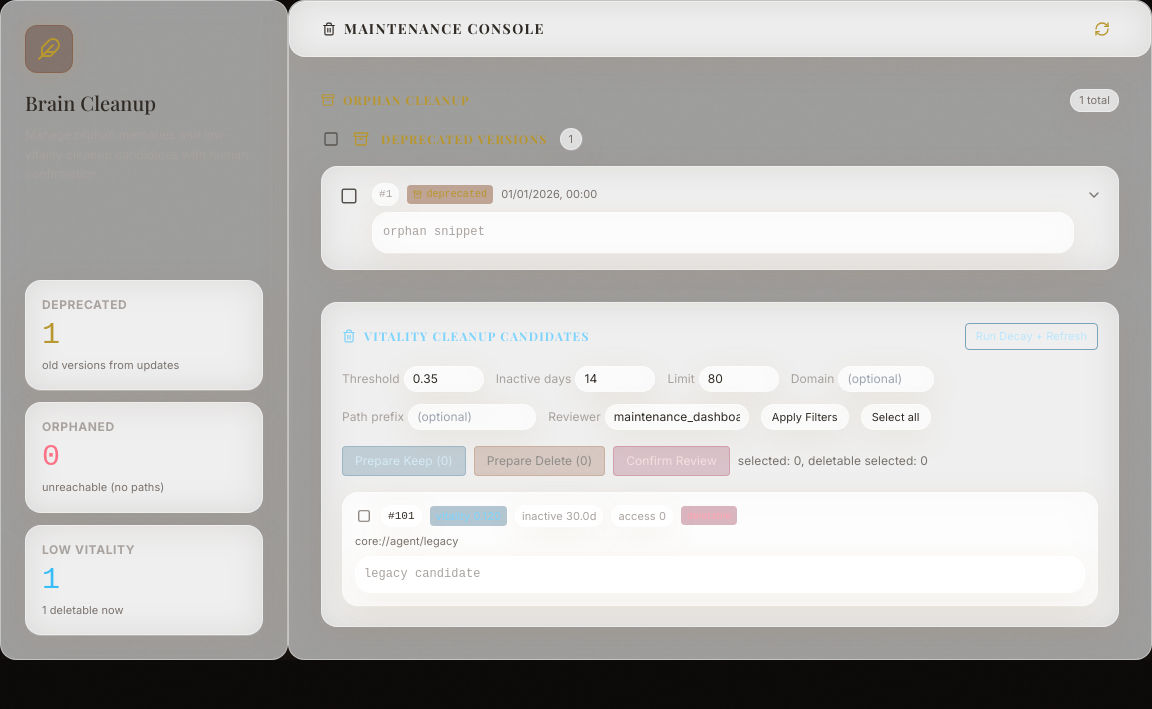
Test: MaintenancePage › keeps prepared review for retry when confirm returns structured confirmation_phrase_mismatch detail
Expected: the text "legacy candidate" is shown, [355,556,1085,593]
Click the button "Select all": (896, 416) [861,404,930,430]
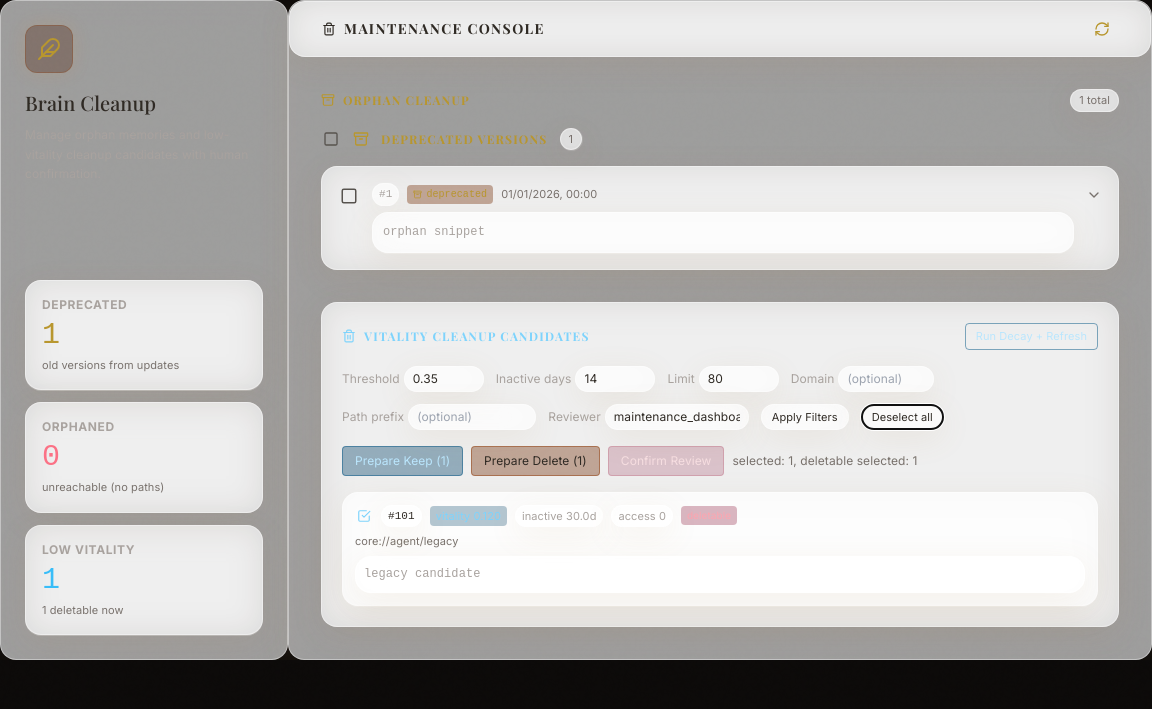
Click the button "Prepare Delete (1)": (535, 460) [471,446,600,476]
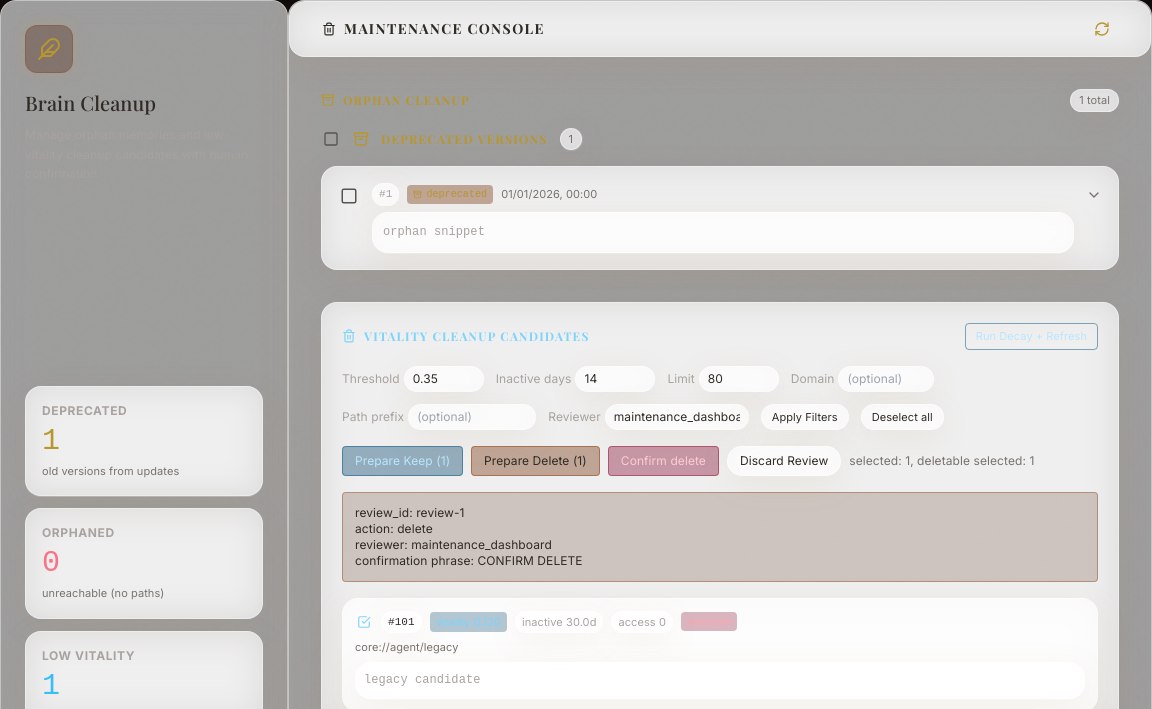
Result: the text "review_id: review-1" is shown at [355,504,464,520]
Click the button "Confirm delete": (663, 460) [608,446,719,476]
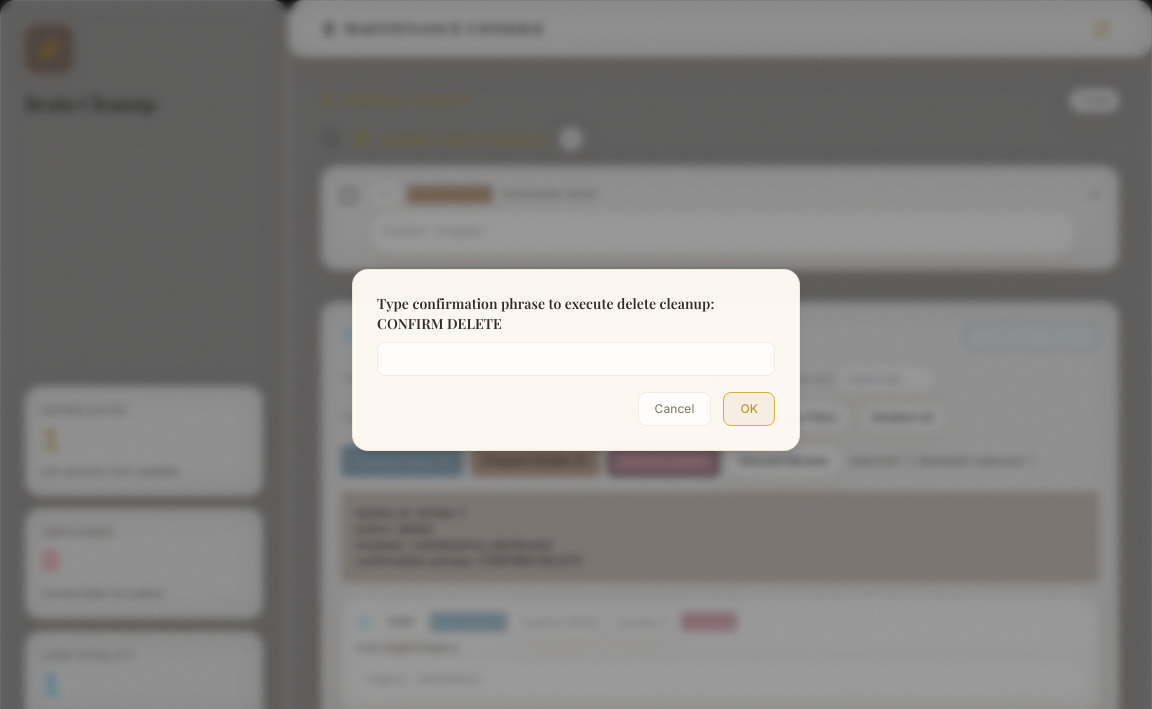
Note: Interact with the confirmation dialog
In the field: (576, 359) [377,342,775,376], type "CONFIRM DELETE"
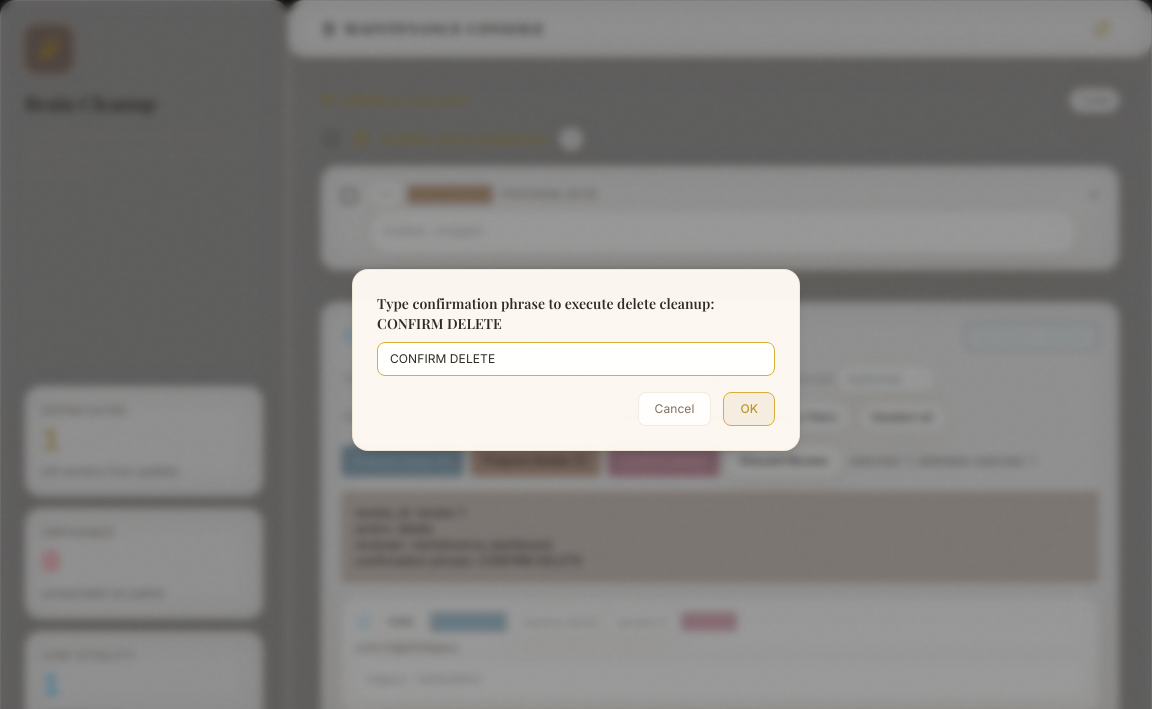
Click the button "OK": (749, 409) [723,392,775,426]
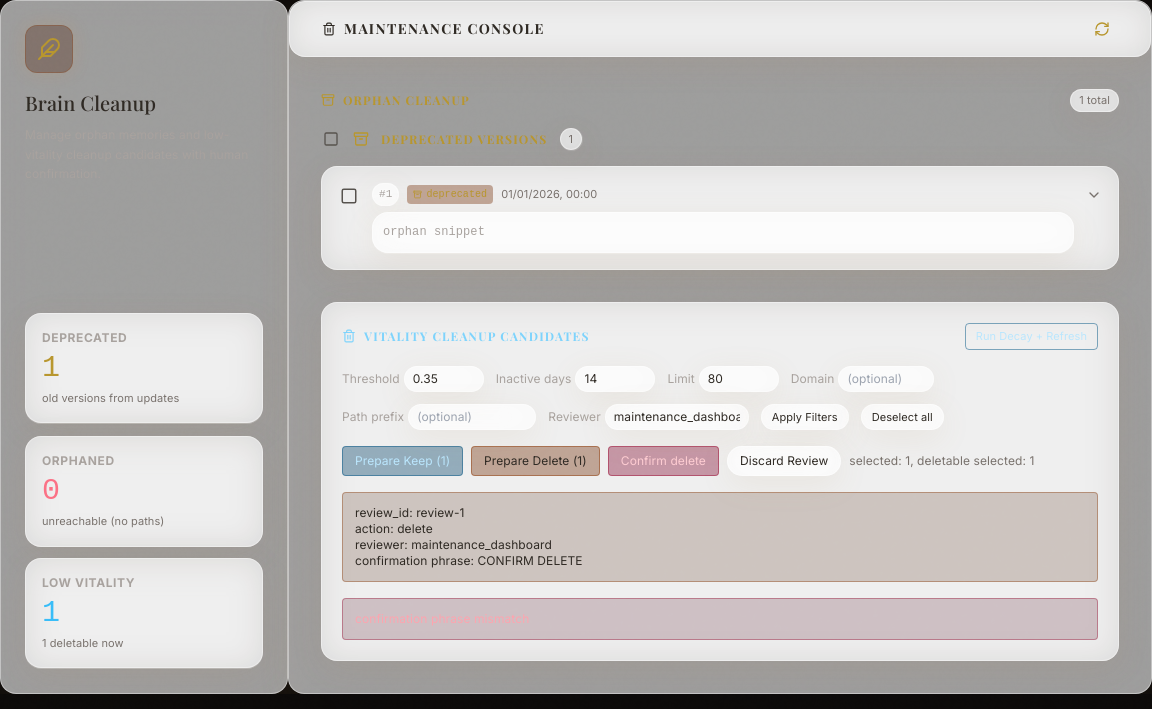
Result: the text "review_id: review-1" is shown at [355,504,464,520]
Result: the text "confirmation phrase mismatch" is shown at [342,598,1098,640]
